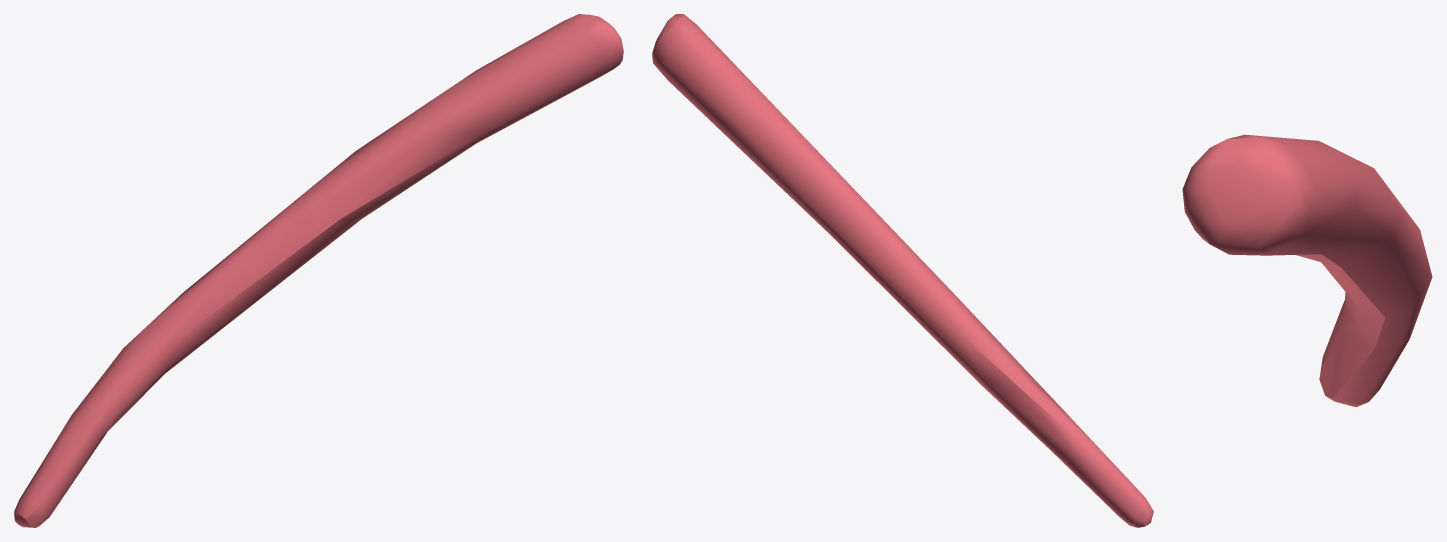
Rendered from fma9425_fj6116.glb.
The picture shows the model from 3 angles, left to right: view 1: azimuth 30°, elevation 25°; view 2: azimuth 150°, elevation 25°; view 3: azimuth 270°, elevation 25°; orthographic projection. The views are drawn at different scales.
Visible parts, largest first — view 1: FMA9425_FJ6116; view 2: FMA9425_FJ6116; view 3: FMA9425_FJ6116.
Boxes of the visible parts, x1=… form: FMA9425_FJ6116: x1=14, y1=14, x2=623, y2=527; FMA9425_FJ6116: x1=652, y1=14, x2=1153, y2=527; FMA9425_FJ6116: x1=1182, y1=134, x2=1432, y2=407.
Bounding box in the file's own units: 0.0335 × 0.0227 × 0.00695.
